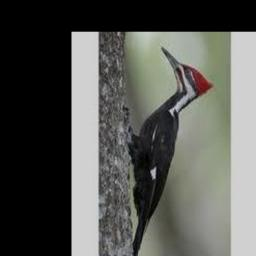Woodpecker: (128, 47, 214, 256)
